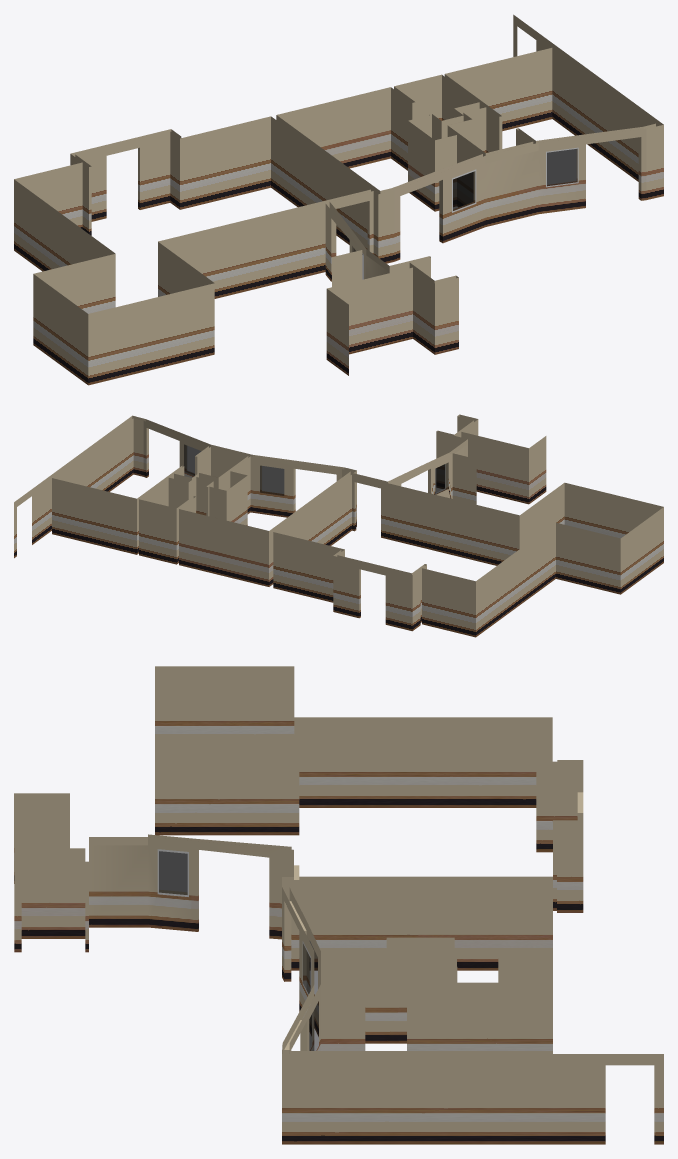
Rendered from APodWallsV2.fbx.
3 renders of one model, top to bottom at view 1: azimuth 30°, elevation 25°; view 2: azimuth 150°, elevation 25°; view 3: azimuth 270°, elevation 25°, orthographic. The views are drawn at different scales.
Parts seen in each view (by area): view 1: polySurface434, polySurface428, polySurface421, polySurface417, polySurface419, polySurface431, polySurface427, polySurface420, polySurface430; view 2: polySurface434, polySurface428, polySurface421, polySurface417, polySurface419, polySurface420, polySurface430, polySurface422, polySurface431, polySurface433, polySurface427; view 3: polySurface434, polySurface428, polySurface420, polySurface421, polySurface431, polySurface417, polySurface419, polySurface432, polySurface433.
Part boxes in pixels (box(x1,y1,x2,y2)): polySurface434: box(14, 116, 370, 385); polySurface428: box(276, 87, 663, 263); polySurface421: box(444, 47, 655, 181); polySurface417: box(326, 256, 458, 375); polySurface419: box(391, 74, 479, 170); polySurface431: box(329, 192, 389, 281); polySurface427: box(546, 147, 578, 187); polySurface420: box(513, 14, 663, 126); polySurface430: box(452, 169, 476, 212); polySurface434: box(273, 453, 663, 637); polySurface428: box(132, 415, 356, 586); polySurface421: box(52, 418, 198, 554); polySurface417: box(436, 414, 546, 504); polySurface419: box(139, 477, 213, 564); polySurface420: box(14, 416, 132, 558); polySurface430: box(260, 465, 284, 495); polySurface422: box(206, 486, 226, 520); polySurface431: box(356, 439, 467, 494); polySurface433: box(435, 462, 448, 494); polySurface427: box(184, 444, 201, 475); polySurface434: box(148, 666, 583, 912); polySurface428: box(282, 877, 552, 1053); polySurface420: box(282, 1054, 663, 1144); polySurface421: box(290, 968, 552, 1053); polySurface431: box(89, 837, 293, 939); polySurface417: box(14, 793, 88, 952); polySurface419: box(433, 951, 552, 984); polySurface432: box(157, 849, 188, 896); polySurface433: box(159, 851, 187, 891).
Bounding box in the file's own units: 10.09 × 1.1 × 7.16.
3 materials, 1 textured.
